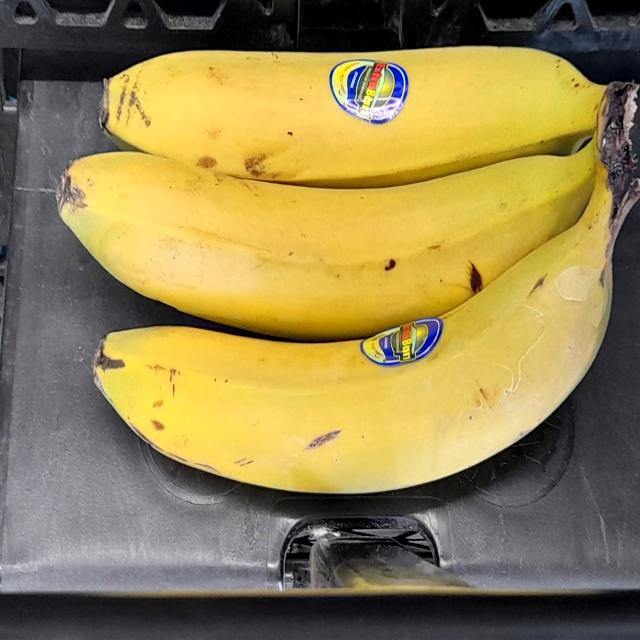banana: (49, 5, 640, 502), (46, 129, 634, 339), (90, 14, 632, 188)
